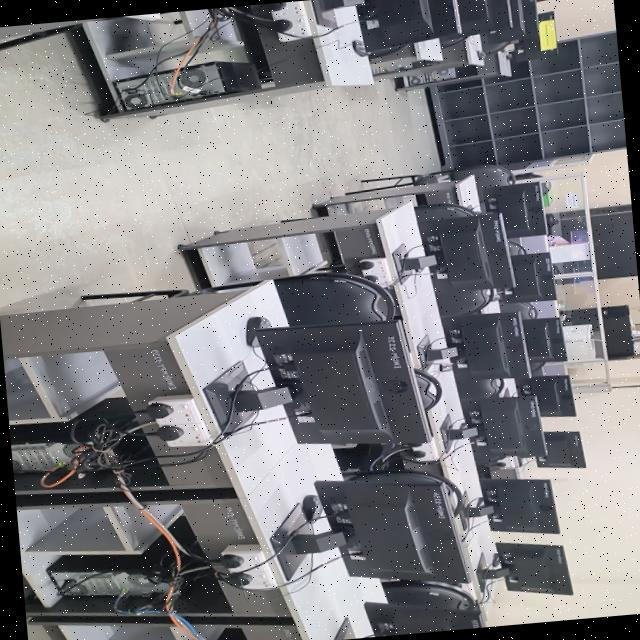Chair: (273, 273, 394, 326), (381, 580, 474, 610), (413, 165, 514, 192), (432, 278, 492, 316), (414, 203, 478, 222), (413, 368, 440, 411)
Cpu: (112, 61, 258, 114), (10, 442, 118, 471), (51, 570, 165, 595)
Monitor: (256, 319, 428, 444), (314, 473, 470, 584), (417, 214, 514, 290), (441, 312, 528, 380), (357, 0, 459, 57), (465, 478, 558, 533), (464, 396, 545, 457), (481, 542, 572, 595), (363, 602, 484, 636), (484, 182, 546, 238), (503, 252, 555, 302), (482, 0, 537, 44), (517, 375, 574, 416), (456, 0, 510, 38), (522, 317, 566, 363), (536, 432, 585, 467)
Mouse: (245, 316, 269, 346), (301, 495, 320, 520), (351, 40, 368, 57), (438, 364, 451, 371)
